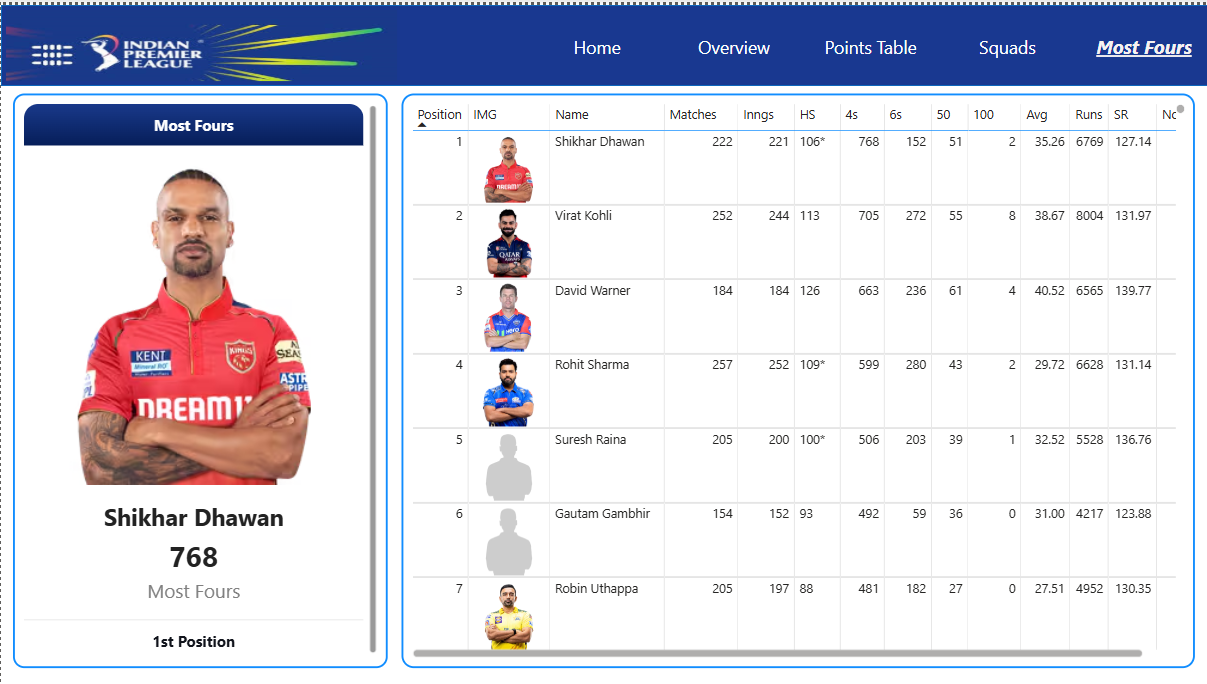

The dashboard page shown, as its layout file describes it:
{"tool":"powerbi","page":{"name":"Most Fours","canvas":[1280,720],"ordinal":12},"visuals":[{"type":"shape","box":[0,0,2001,85.9],"z":0},{"type":"image","box":[0,0,424.7,85.9],"z":1000},{"type":"pageNavigator","box":[564.7,19.1,715.8,50.9],"z":2000},{"type":"tableEx","fields":{"Values":["Most fours.Position","Most fours.IMG","Most fours.Name","Most fours.Mat","Most fours.Inngs","Most fours.HS","Most fours.4s","Most fours.6s","Most fours.50","Most fours.100","Most fours.Avg","Most fours.Runs"]},"box":[404,93.8,862.1,609.2],"z":3000},{"type":"htmlContent443BE3AD55E043BF878BED274D3A6855","fields":{"content":["Records.Top_Players"]},"box":[12.7,93.8,380.2,609.2],"z":4000}]}

Visuals, with their boxes in screenshot pixels (x1, y1, x2, y2), scaled from the page's 1280x720 canvas onto the 1207x684 screenshot:
shape: (x1=0, y1=0, x2=1206, y2=82)
image: (x1=0, y1=0, x2=400, y2=82)
pageNavigator: (x1=532, y1=18, x2=1206, y2=66)
tableEx - Most fours.Position x Most fours.IMG: (x1=381, y1=89, x2=1194, y2=668)
htmlContent443BE3AD55E043BF878BED274D3A6855 - Records.Top_Players: (x1=12, y1=89, x2=370, y2=668)
